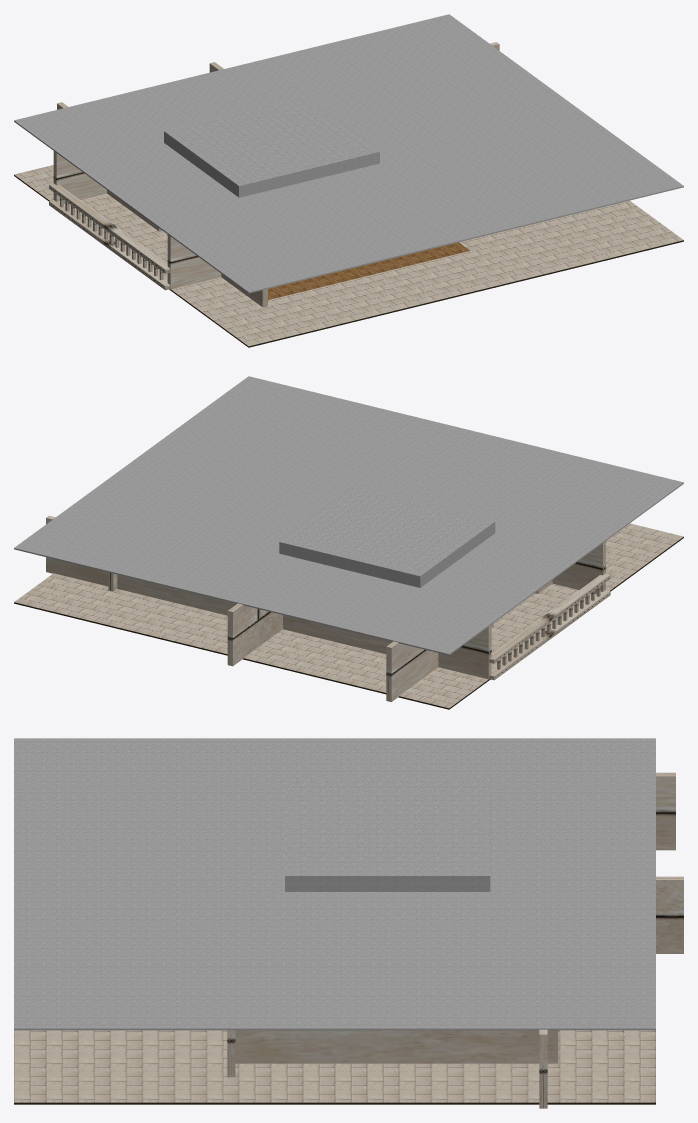
3 views of the same model, one above another, from view 1: azimuth 30°, elevation 25°; view 2: azimuth 150°, elevation 25°; view 3: azimuth 270°, elevation 25° (orthographic). The views are drawn at different scales.
Parts seen in each view (by area): view 1: ceiling0, floor1, ceiling1, barbottom, floor0, wall1, wall4, bar, wall6; view 2: ceiling0, floor1, ceiling1, wall4, barbottom, wall5, wall6, wall1, bar; view 3: ceiling0, floor1, ceiling1, wall7, wall5, wall6, wall4.
Part boxes in pixels (left/top/right/bottom): ceiling0: left=14, top=14, right=683, bottom=293; floor1: left=14, top=165, right=683, bottom=347; ceiling1: left=164, top=97, right=379, bottom=197; barbottom: left=49, top=183, right=170, bottom=290; floor0: left=268, top=242, right=469, bottom=299; wall1: left=167, top=234, right=221, bottom=289; wall4: left=53, top=42, right=499, bottom=203; bar: left=60, top=197, right=163, bottom=280; wall6: left=57, top=102, right=267, bottom=307; ceiling0: left=14, top=376, right=683, bottom=655; floor1: left=14, top=523, right=683, bottom=709; ceiling1: left=279, top=487, right=495, bottom=587; wall4: left=46, top=515, right=491, bottom=679; barbottom: left=489, top=573, right=610, bottom=680; wall5: left=227, top=603, right=282, bottom=666; wall6: left=386, top=580, right=552, bottom=701; wall1: left=552, top=541, right=605, bottom=593; bar: left=497, top=586, right=600, bottom=669; ceiling0: left=14, top=738, right=655, bottom=1030; floor1: left=14, top=1030, right=655, bottom=1104; ceiling1: left=285, top=782, right=490, bottom=891; wall7: left=235, top=1030, right=558, bottom=1063; wall5: left=656, top=876, right=683, bottom=953; wall6: left=656, top=772, right=675, bottom=850; wall4: left=539, top=1029, right=547, bottom=1108.
Size of the model in its own units: 69.17 by 9.92 by 65.53.
